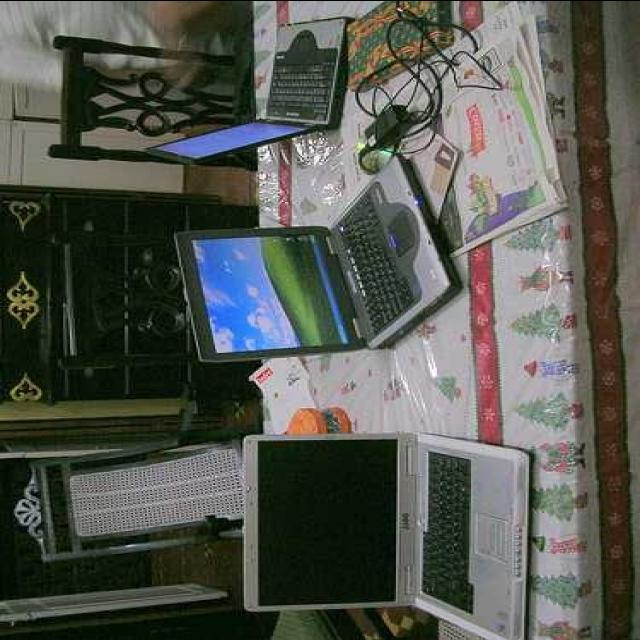laptop: (216, 418, 550, 640), (158, 167, 480, 362), (144, 0, 358, 164)
